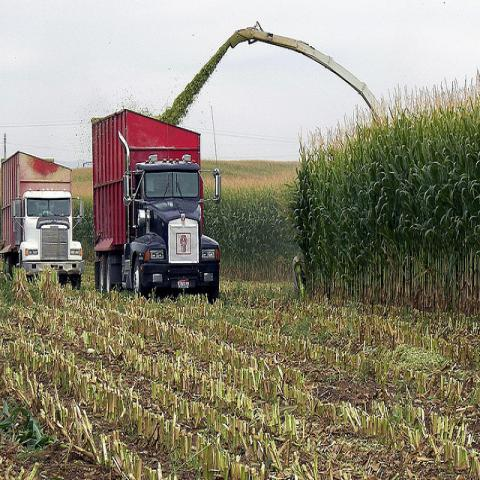truck: (92, 107, 221, 304), (0, 153, 84, 288)
